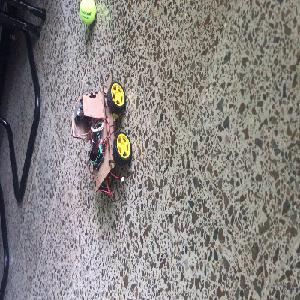Ball: (79, 1, 96, 24)
Robot: (71, 77, 131, 192)
